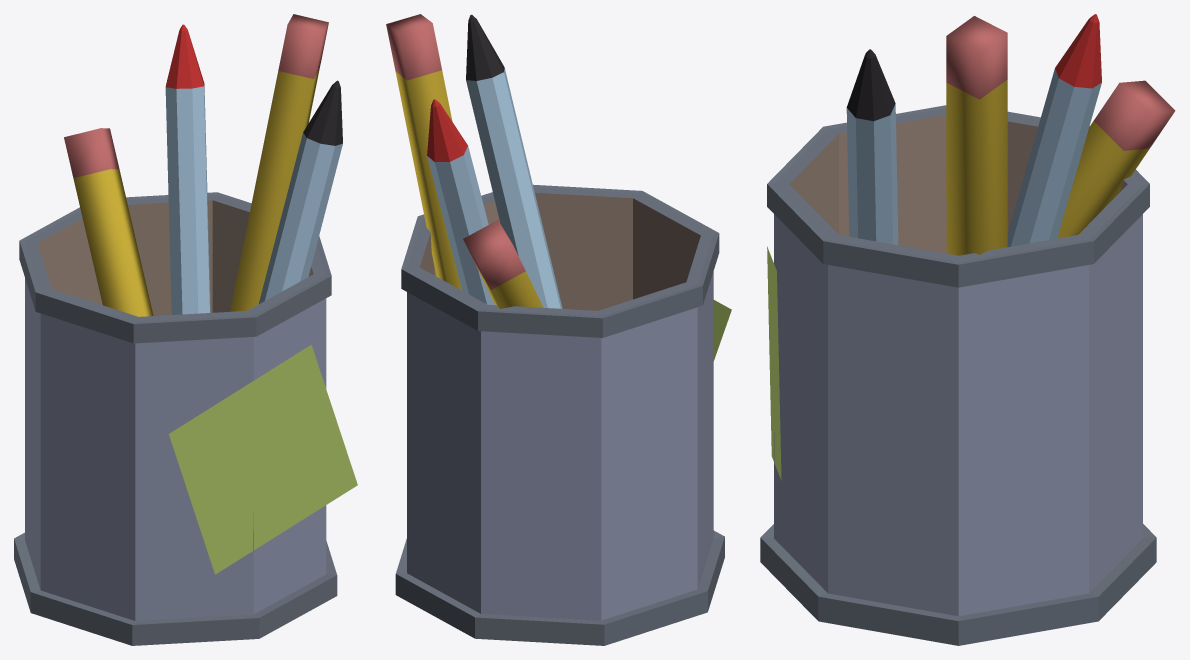
The model's file is PenHolder_01.fbx.
3 renders of one model, left to right at view 1: azimuth 30°, elevation 25°; view 2: azimuth 150°, elevation 25°; view 3: azimuth 270°, elevation 25°, orthographic. The views are drawn at different scales.
Visible parts, largest first — view 1: Office_Pencil_Pot; view 2: Office_Pencil_Pot; view 3: Office_Pencil_Pot.
Boxes of the visible parts, bbox=[...] form: Office_Pencil_Pot: bbox=[14, 14, 357, 645]; Office_Pencil_Pot: bbox=[386, 14, 731, 645]; Office_Pencil_Pot: bbox=[760, 14, 1175, 645].
Size of the model in its own units: 0.1068 by 0.1725 by 0.1055.
